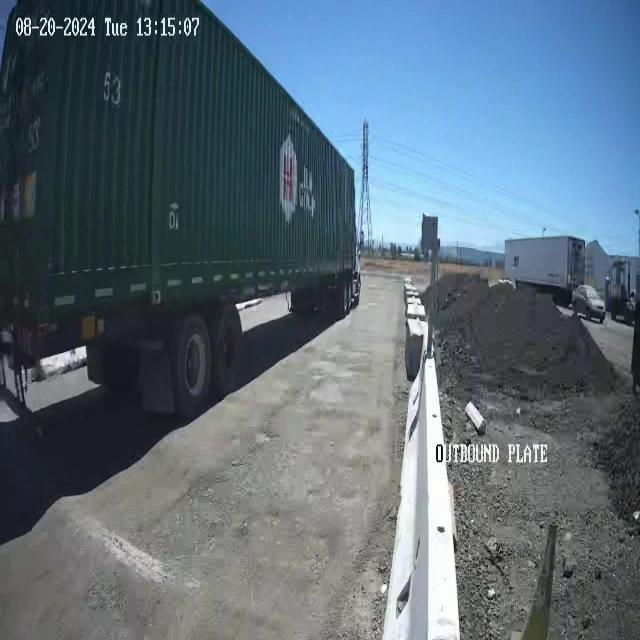TRUCK_CONTAINER: (1, 0, 361, 421)
